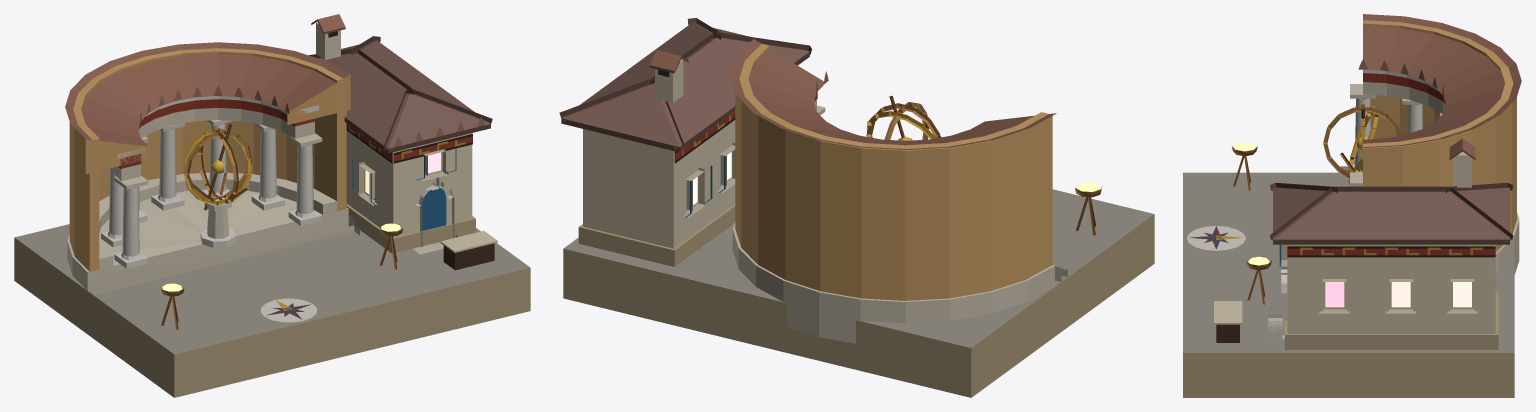
Rendered from chartroom.glb.
3 views of the same model, side by side, from view 1: azimuth 30°, elevation 25°; view 2: azimuth 150°, elevation 25°; view 3: azimuth 270°, elevation 25° (orthographic). The views are drawn at different scales.
Visible parts, largest first — view 1: chartroom_body; view 2: chartroom_body; view 3: chartroom_body, chartroom_body_windows, chartroom_body_lamps.
Boxes of the visible parts, bbox=[...] form: chartroom_body: bbox=[14, 14, 530, 397]; chartroom_body: bbox=[559, 18, 1154, 397]; chartroom_body: bbox=[1183, 14, 1521, 397]; chartroom_body_windows: bbox=[1325, 282, 1471, 307]; chartroom_body_lamps: bbox=[1234, 142, 1269, 265].
Bounding box in the file's own units: 18.44 × 10.25 × 14.3.
